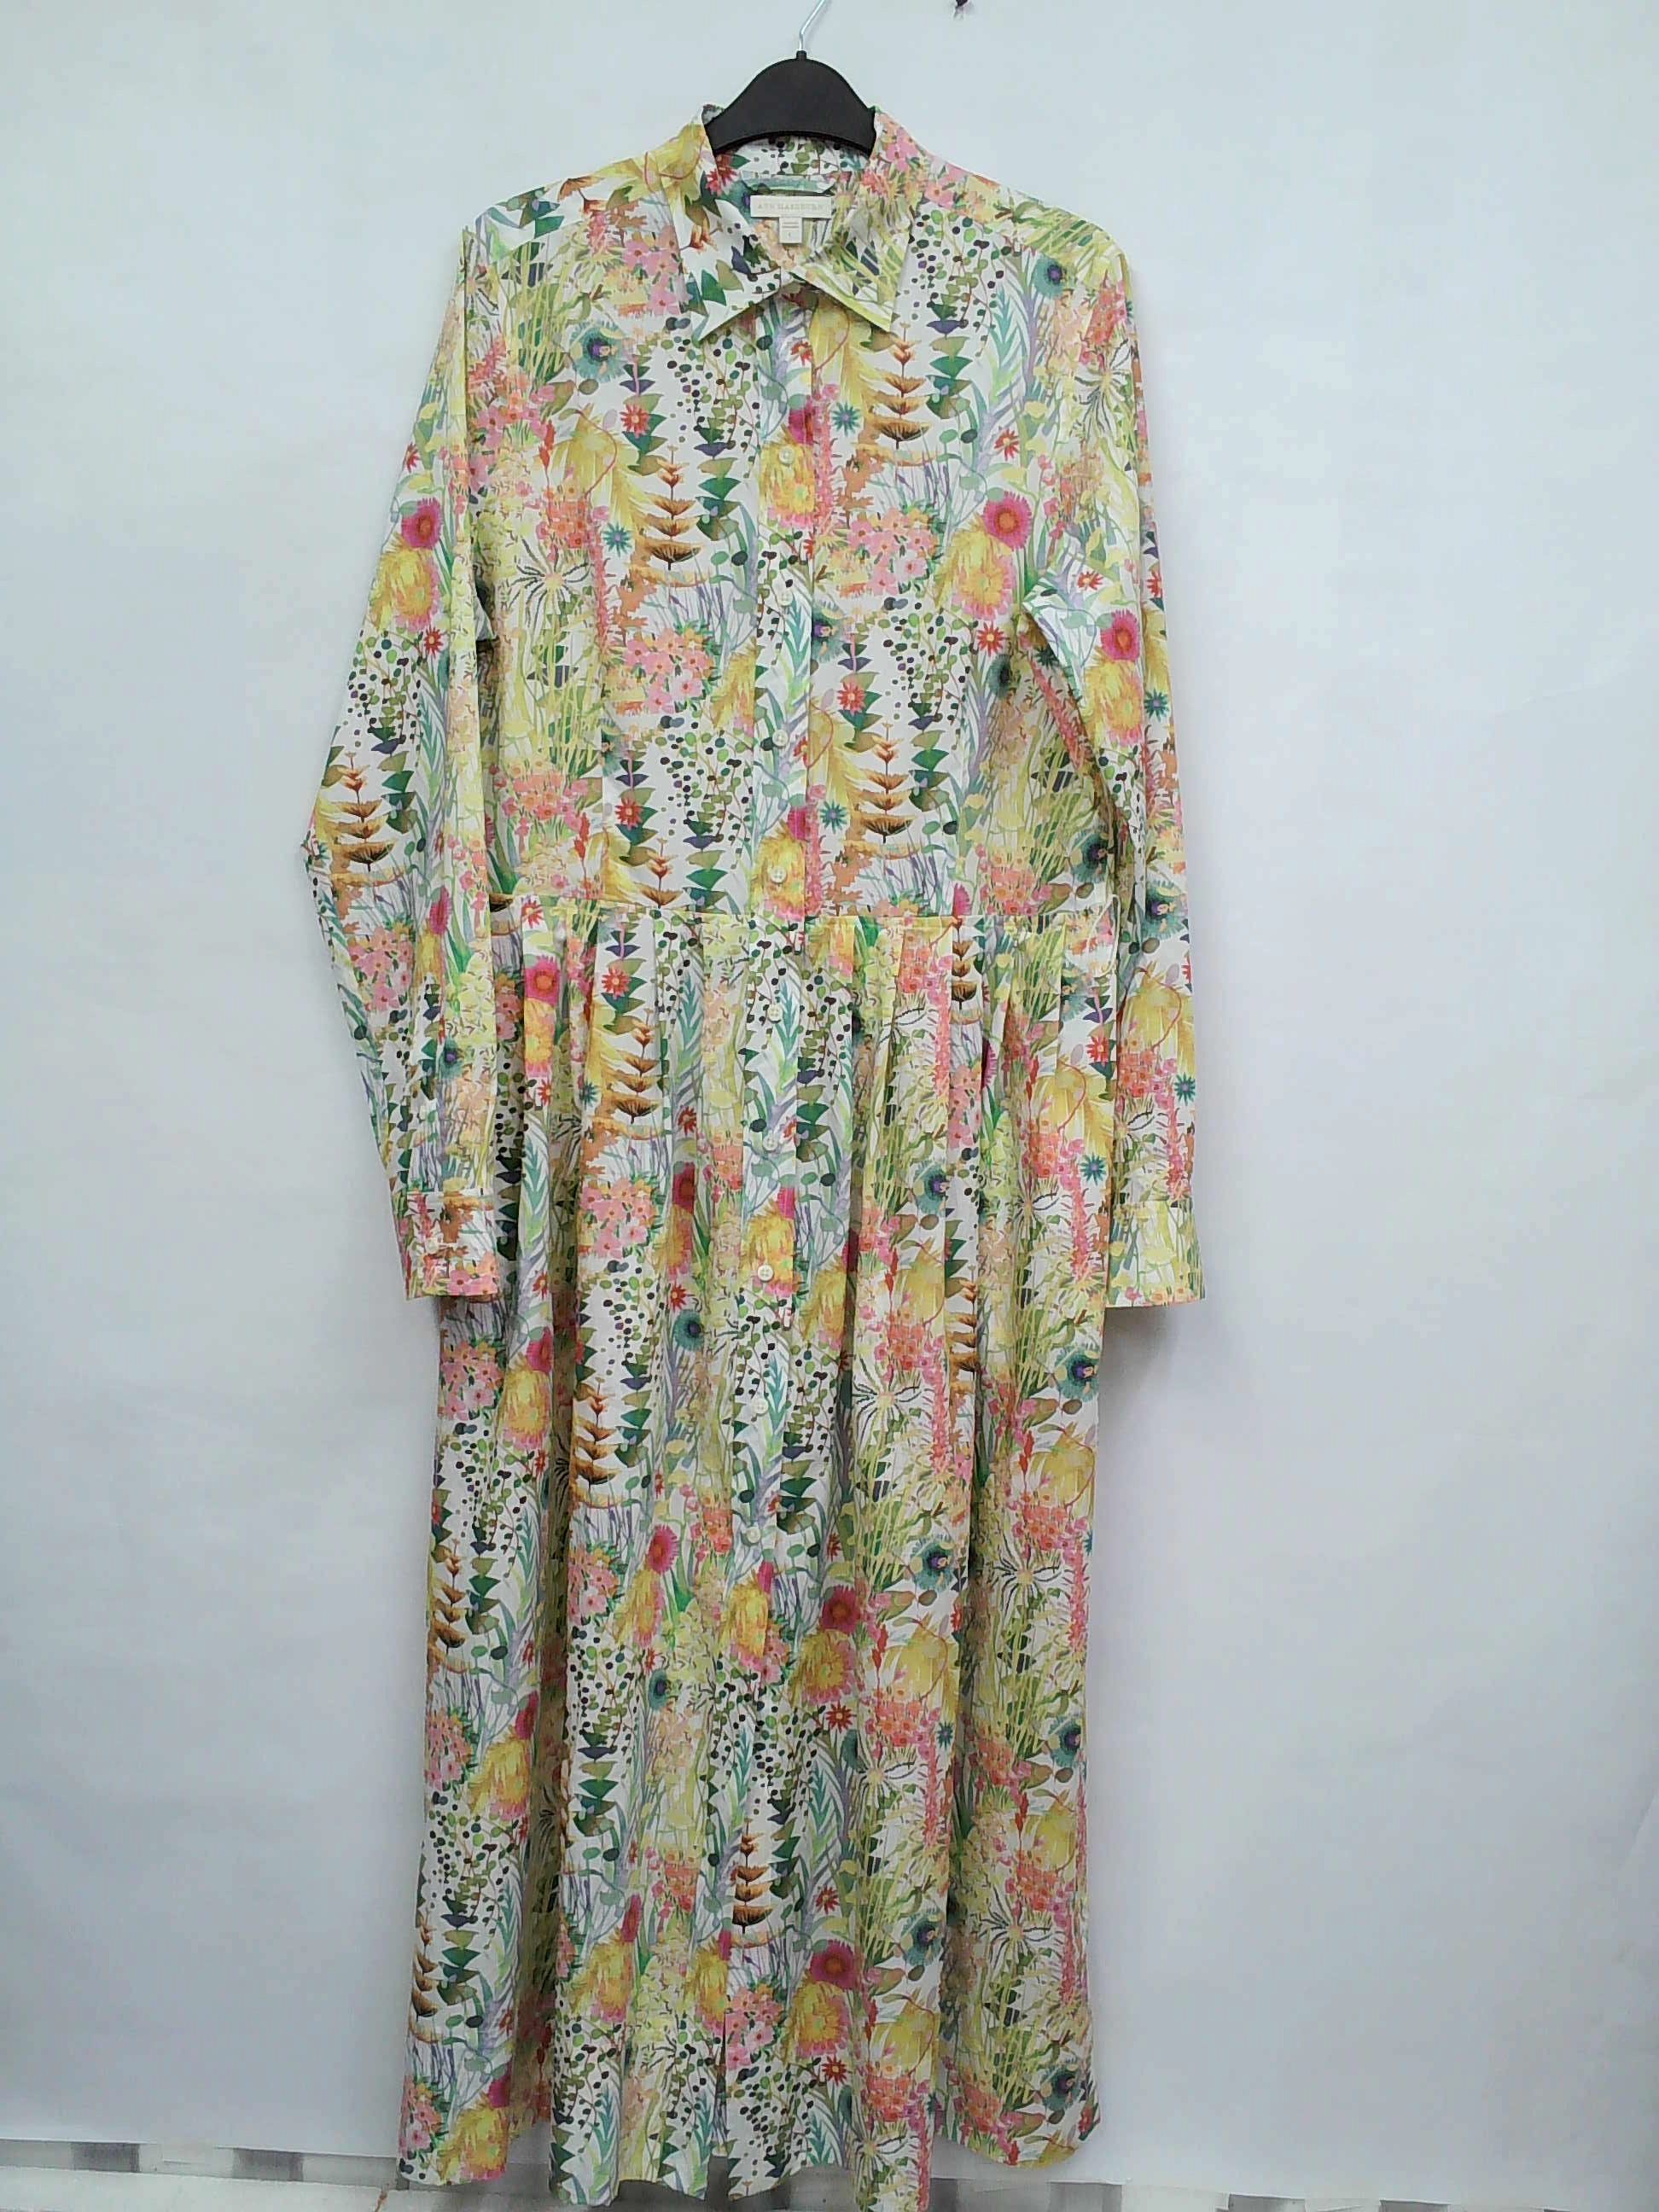seam: (640, 2038, 732, 2205)
